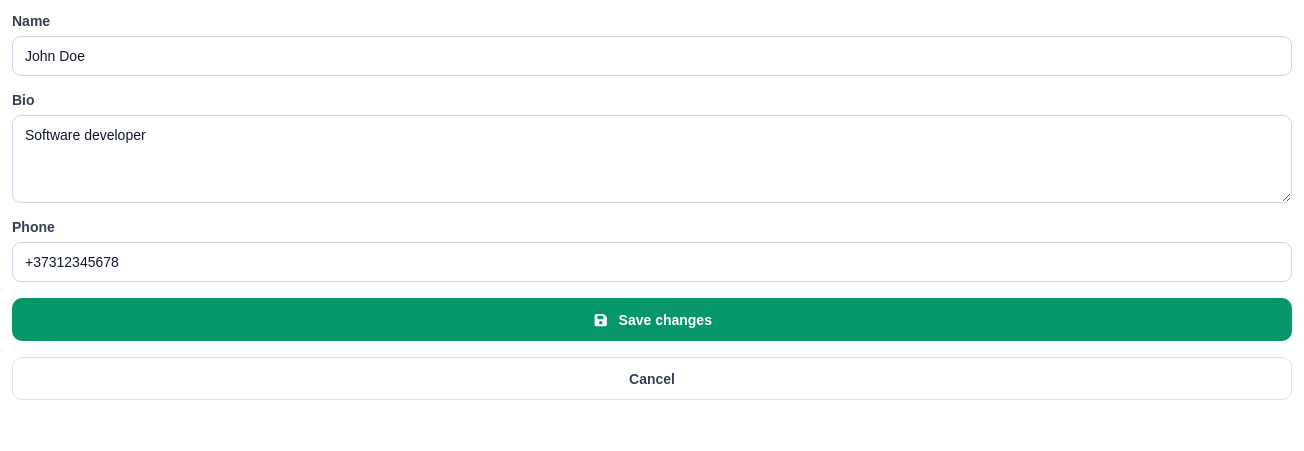
Test case: UserProfileForm › should clear previous error when submitting again
The width and height of the screenshot is (1304, 451).
Click the button "Save changes" at (652, 320), box [12,298,1292,341]
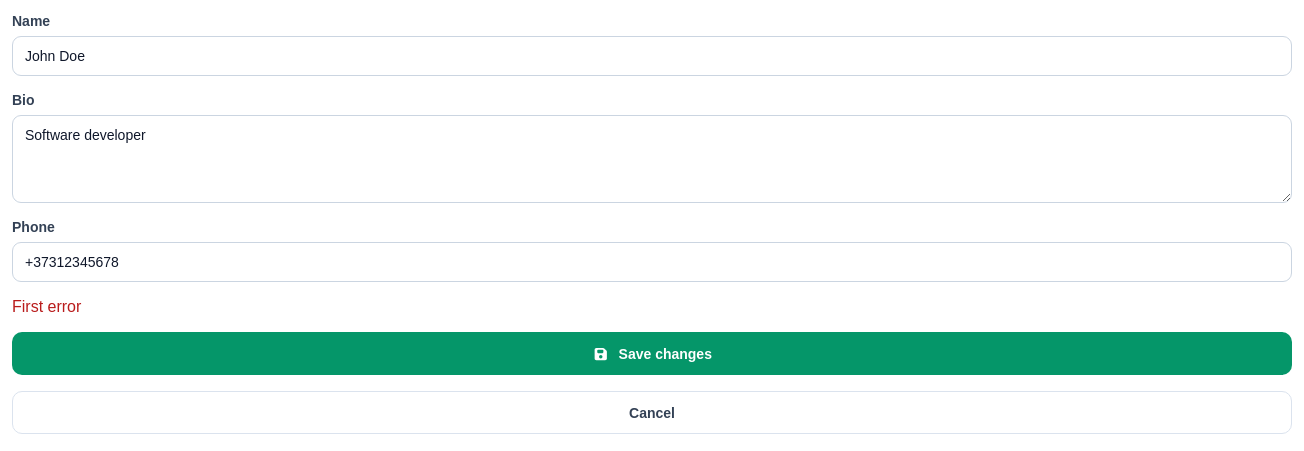
Expected: the message reads "First error", [12,298,81,315]
Click the button "Save changes" at (652, 354), box [12,332,1292,375]
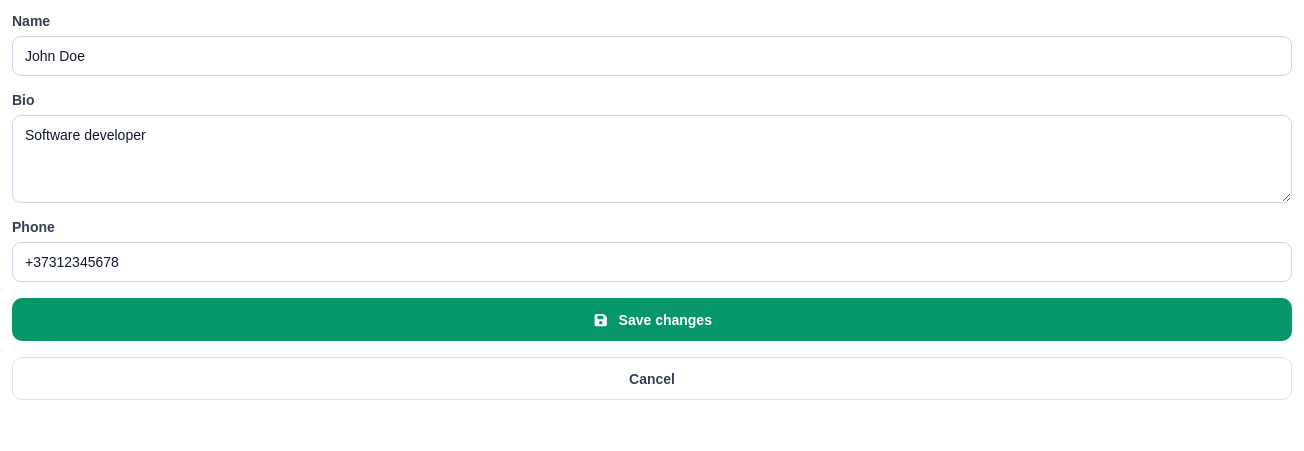
Expected: the message "First error" is gone
